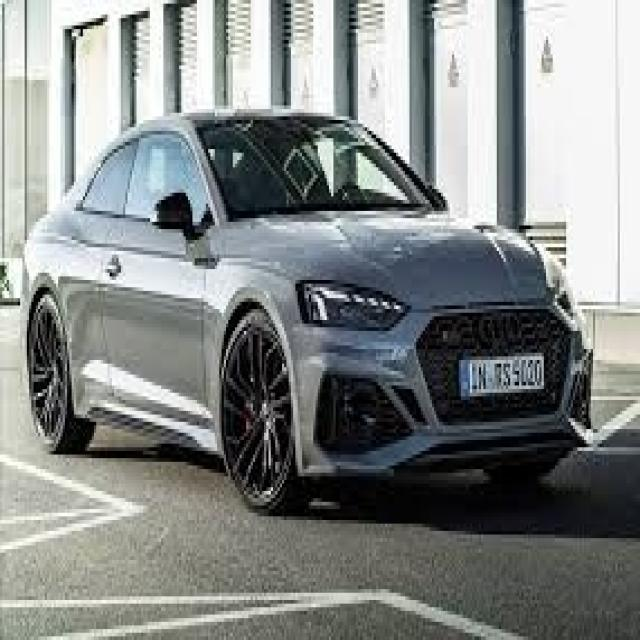black: (18, 120, 591, 515)
